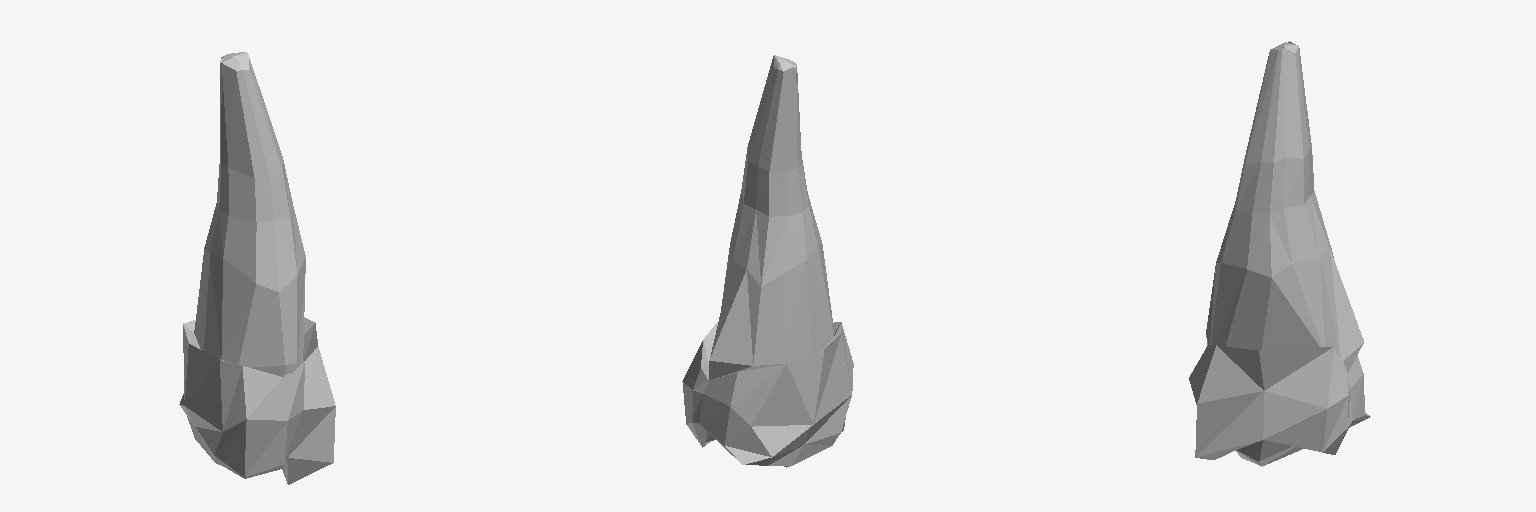
Rendered from Upper_Premolar_Right_02.obj.
3 renders of one model, left to right at view 1: azimuth 30°, elevation 25°; view 2: azimuth 150°, elevation 25°; view 3: azimuth 270°, elevation 25°, orthographic.
Parts seen in each view (by area): view 1: Upper_Premolar_Right_02 Upper_Teeth Teeth group1; view 2: Upper_Premolar_Right_02 Upper_Teeth Teeth group1; view 3: Upper_Premolar_Right_02 Upper_Teeth Teeth group1.
Part boxes in pixels (bbox=[...]): Upper_Premolar_Right_02 Upper_Teeth Teeth group1: bbox=[179, 52, 335, 484]; Upper_Premolar_Right_02 Upper_Teeth Teeth group1: bbox=[682, 55, 853, 467]; Upper_Premolar_Right_02 Upper_Teeth Teeth group1: bbox=[1189, 41, 1370, 466].
Bounding box in the file's own units: 0.0938 × 0.2972 × 0.12.